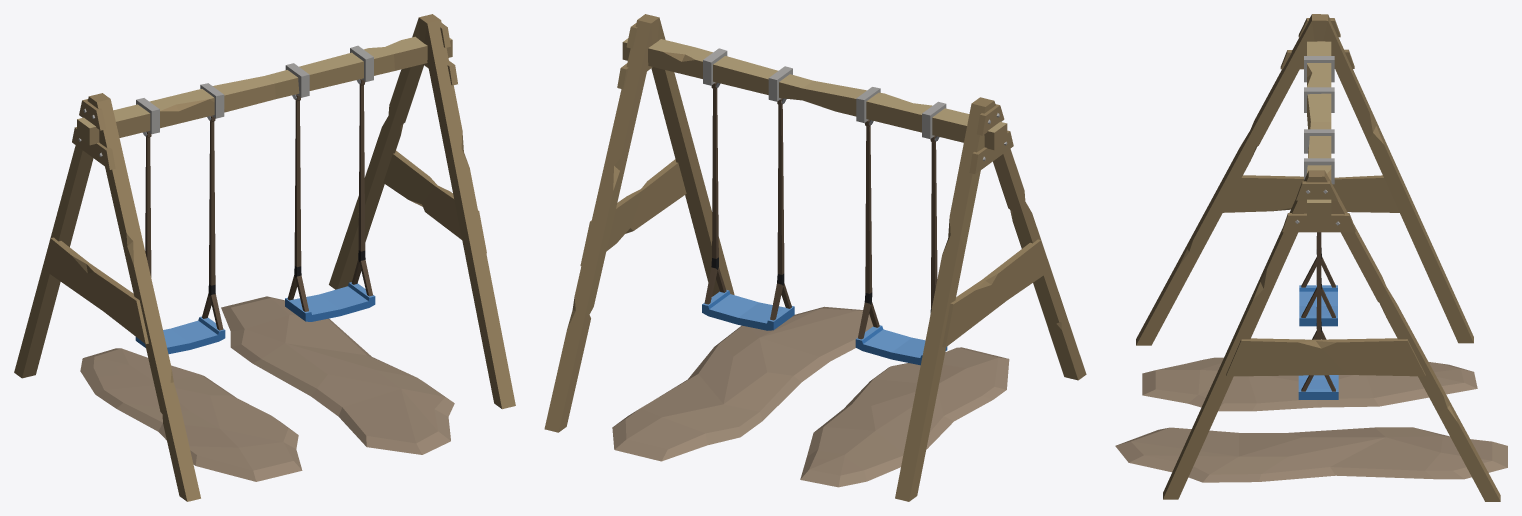
Rendered from SM_Prop_Playground_Swing_01.fbx.
3 views of the same model, side by side, from view 1: azimuth 30°, elevation 25°; view 2: azimuth 150°, elevation 25°; view 3: azimuth 270°, elevation 25° (orthographic). The views are drawn at different scales.
Visible parts, largest first — view 1: SM_Prop_Playground_Swing_01, SM_Prop_Playground_Swing_Dirt_01; view 2: SM_Prop_Playground_Swing_01, SM_Prop_Playground_Swing_Dirt_01; view 3: SM_Prop_Playground_Swing_01, SM_Prop_Playground_Swing_Dirt_01.
Boxes of the visible parts, x1,y1,x2,y2 form: SM_Prop_Playground_Swing_01: (14, 14, 515, 501); SM_Prop_Playground_Swing_Dirt_01: (80, 296, 454, 481); SM_Prop_Playground_Swing_01: (544, 14, 1086, 501); SM_Prop_Playground_Swing_Dirt_01: (612, 306, 1009, 487); SM_Prop_Playground_Swing_01: (1136, 14, 1500, 501); SM_Prop_Playground_Swing_Dirt_01: (1115, 357, 1507, 482).
Bounding box in the file's own units: 314 × 276 × 302.
